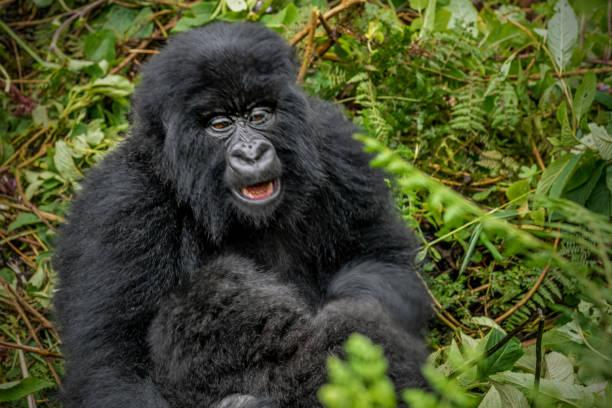goriile_montagne: (64, 29, 419, 402)
